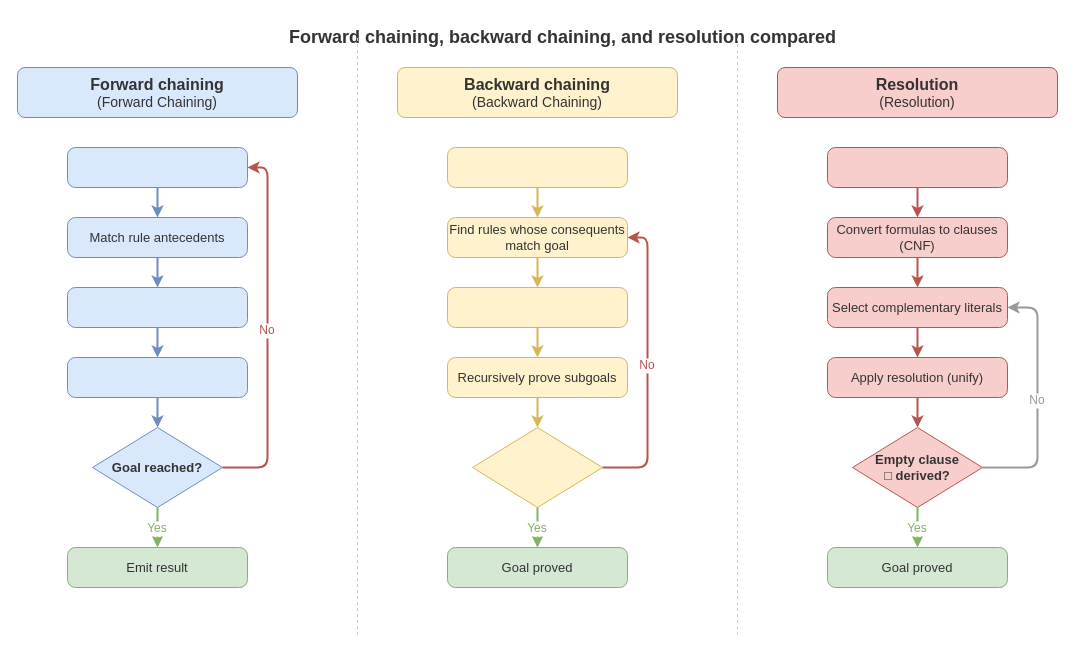
Image size: 1075x655. Some labels were removed from this diagram. The centre of each missing label's shape, as x and y in pixels:
"Add new facts to fact base" belongs at point (157, 377).
"Fire rules; derive new facts" belongs at point (157, 307).
"Negate goal (contradiction proof)" belongs at point (917, 167).
"Set antecedents as subgoals" belongs at point (537, 307).
"Set goal" belongs at point (537, 167).
"Set of known facts" belongs at point (157, 167).
"Subgoal a known fact?" belongs at point (537, 467).
